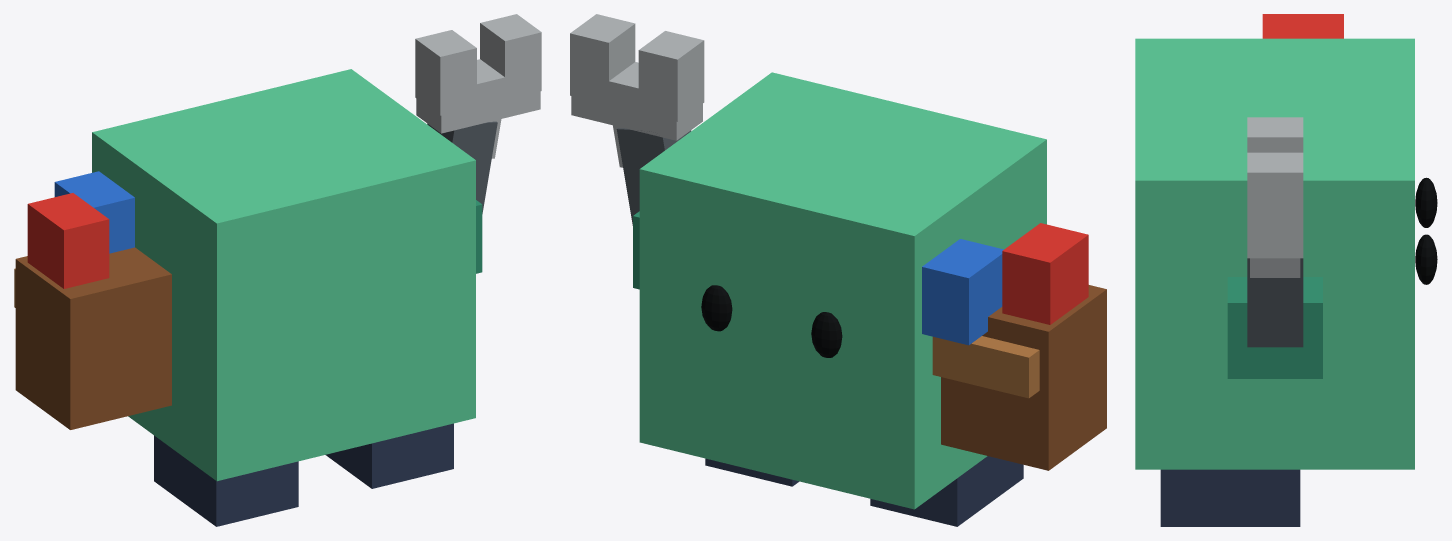
The model's file is FixItBot_Block.obj.
The picture shows the model from 3 angles, left to right: view 1: azimuth 30°, elevation 25°; view 2: azimuth 150°, elevation 25°; view 3: azimuth 270°, elevation 25°; orthographic projection. The views are drawn at different scales.
Visible parts, largest first — view 1: RepairBody, PouchBody, FootLeft, SpareBrickRed, WrenchJawBase, FootRight, WrenchJawLeft, WrenchJawRight, SpareBrickBlue, ToolGrip; view 2: RepairBody, PouchBody, SpareBrickRed, SpareBrickBlue, WrenchJawBase, PouchFlap, WrenchJawLeft, FootLeft, WrenchJawRight, ToolGrip, EyeRight, EyeLeft (+1 smaller); view 3: RepairBody, FootRight, ToolShoulder, WrenchJawRight, ToolGrip, WrenchJawLeft, SpareBrickRed, WrenchJawBase, WrenchNeck, EyeRight, EyeLeft.
Part boxes in pixels (x1=…): RepairBody: x1=92, y1=69, x2=475, y2=481; PouchBody: x1=15, y1=247, x2=171, y2=429; FootLeft: x1=154, y1=435, x2=298, y2=526; SpareBrickRed: x1=27, y1=193, x2=109, y2=288; WrenchJawBase: x1=416, y1=59, x2=540, y2=133; FootRight: x1=325, y1=423, x2=453, y2=488; WrenchJawLeft: x1=415, y1=30, x2=476, y2=115; WrenchJawRight: x1=480, y1=14, x2=541, y2=90; SpareBrickBlue: x1=54, y1=171, x2=134, y2=253; ToolGrip: x1=427, y1=121, x2=497, y2=213; RepairBody: x1=639, y1=72, x2=1046, y2=509; PouchBody: x1=941, y1=285, x2=1106, y2=470; SpareBrickRed: x1=1002, y1=223, x2=1088, y2=324; SpareBrickBlue: x1=922, y1=239, x2=1003, y2=345; WrenchJawBase: x1=571, y1=62, x2=702, y2=140; PouchFlap: x1=932, y1=336, x2=1039, y2=398; WrenchJawLeft: x1=638, y1=31, x2=704, y2=121; FootLeft: x1=870, y1=456, x2=1023, y2=526; WrenchJawRight: x1=570, y1=14, x2=635, y2=104; ToolGrip: x1=616, y1=128, x2=691, y2=225; EyeRight: x1=701, y1=285, x2=732, y2=331; EyeLeft: x1=811, y1=312, x2=842, y2=357; RepairBody: x1=1135, y1=38, x2=1414, y2=469; FootRight: x1=1160, y1=469, x2=1300, y2=526; ToolShoulder: x1=1227, y1=277, x2=1322, y2=378; WrenchJawRight: x1=1247, y1=152, x2=1303, y2=238; ToolGrip: x1=1247, y1=258, x2=1303, y2=347; WrenchJawLeft: x1=1247, y1=117, x2=1303, y2=152; SpareBrickRed: x1=1262, y1=14, x2=1343, y2=38; WrenchJawBase: x1=1247, y1=238, x2=1303, y2=258; WrenchNeck: x1=1250, y1=258, x2=1300, y2=277; EyeRight: x1=1415, y1=234, x2=1437, y2=284; EyeLeft: x1=1415, y1=177, x2=1437, y2=227.
Size of the model in its own units: 2.21 by 1.67 by 1.08.
